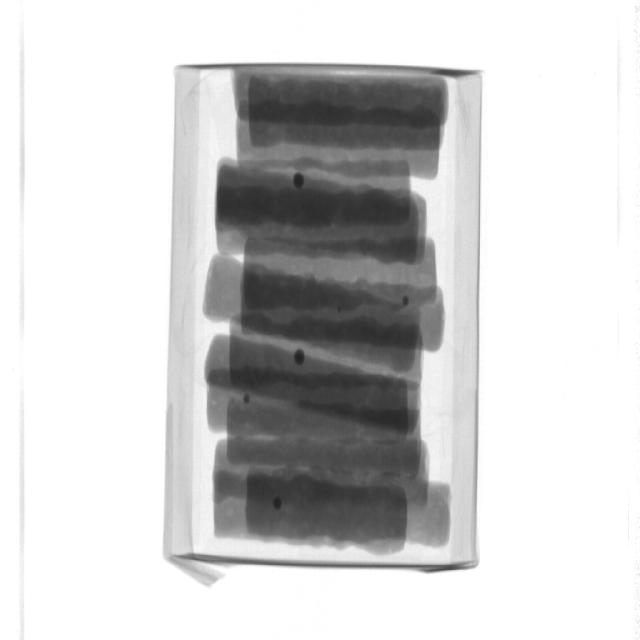ym: (293, 173, 304, 190), (294, 350, 305, 366), (275, 497, 284, 510), (403, 296, 410, 305), (245, 394, 252, 403), (339, 308, 344, 314)
